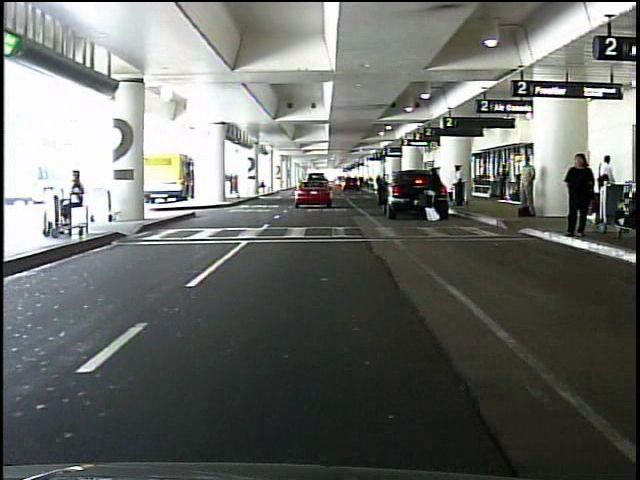person: (562, 149, 596, 244), (43, 165, 87, 237), (593, 154, 615, 215), (426, 165, 442, 223), (452, 163, 466, 208), (497, 162, 510, 201)
